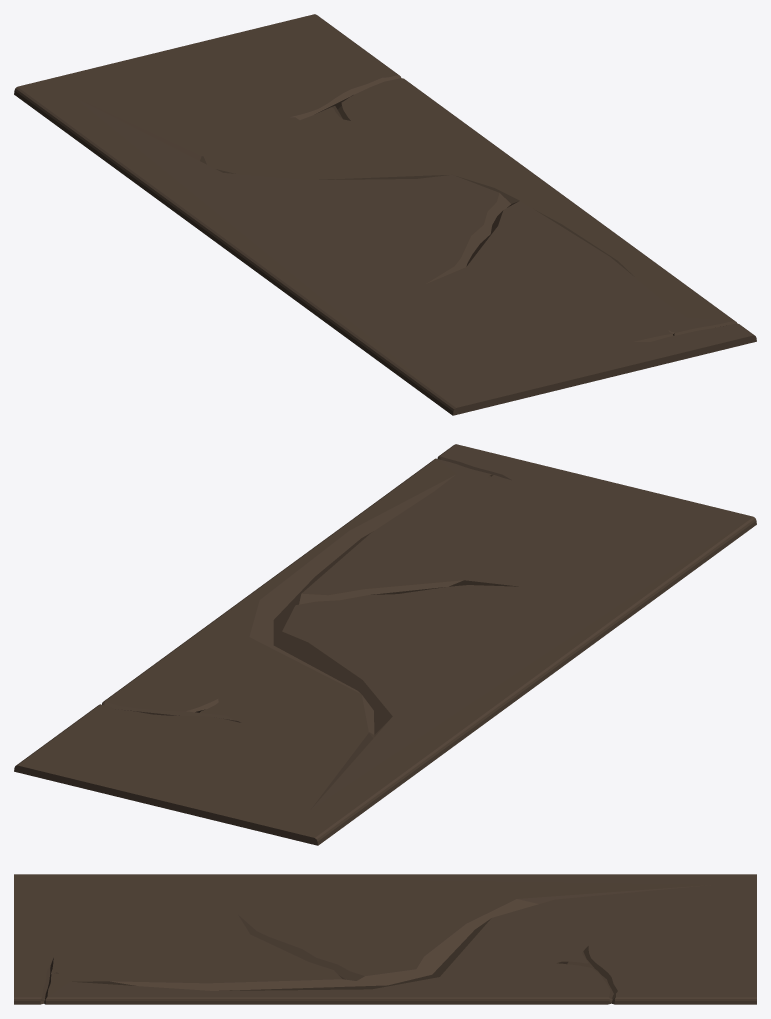
File: Road 2a.obj
3 renders of one model, top to bottom at view 1: azimuth 30°, elevation 25°; view 2: azimuth 150°, elevation 25°; view 3: azimuth 270°, elevation 25°, orthographic. The views are drawn at different scales.
Visible parts, largest first — view 1: Plane; view 2: Plane; view 3: Plane.
Boxes of the visible parts, x1,y1,x2,y2 form: Plane: [14, 14, 756, 415]; Plane: [14, 444, 756, 845]; Plane: [14, 874, 756, 1004].
Size of the model in its own units: 4 by 0.1153 by 10.
